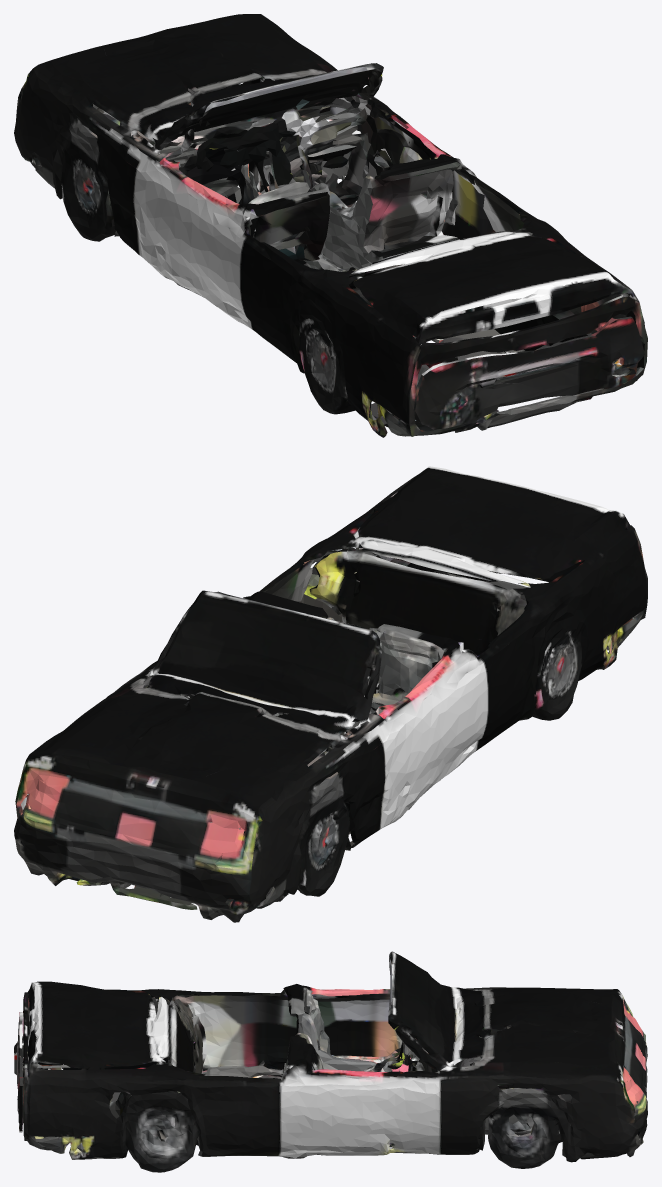
The picture shows the model from 3 angles, top to bottom: view 1: azimuth 30°, elevation 25°; view 2: azimuth 150°, elevation 25°; view 3: azimuth 270°, elevation 25°; orthographic projection. The views are drawn at different scales.
Visible parts, largest first — view 1: world; view 2: world; view 3: world.
Boxes of the visible parts, x1=… form: world: x1=14, y1=14, x2=647, y2=437; world: x1=14, y1=466, x2=647, y2=922; world: x1=14, y1=951, x2=647, y2=1172.
Bounding box in the file's own units: 0.3562 × 0.2582 × 0.999.
Materials: 1 (1 with a texture image).
